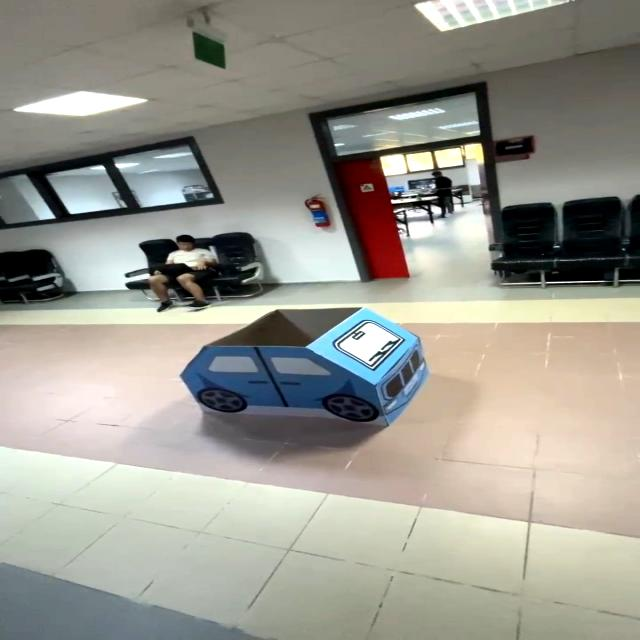blue_car: (158, 300, 452, 444)
